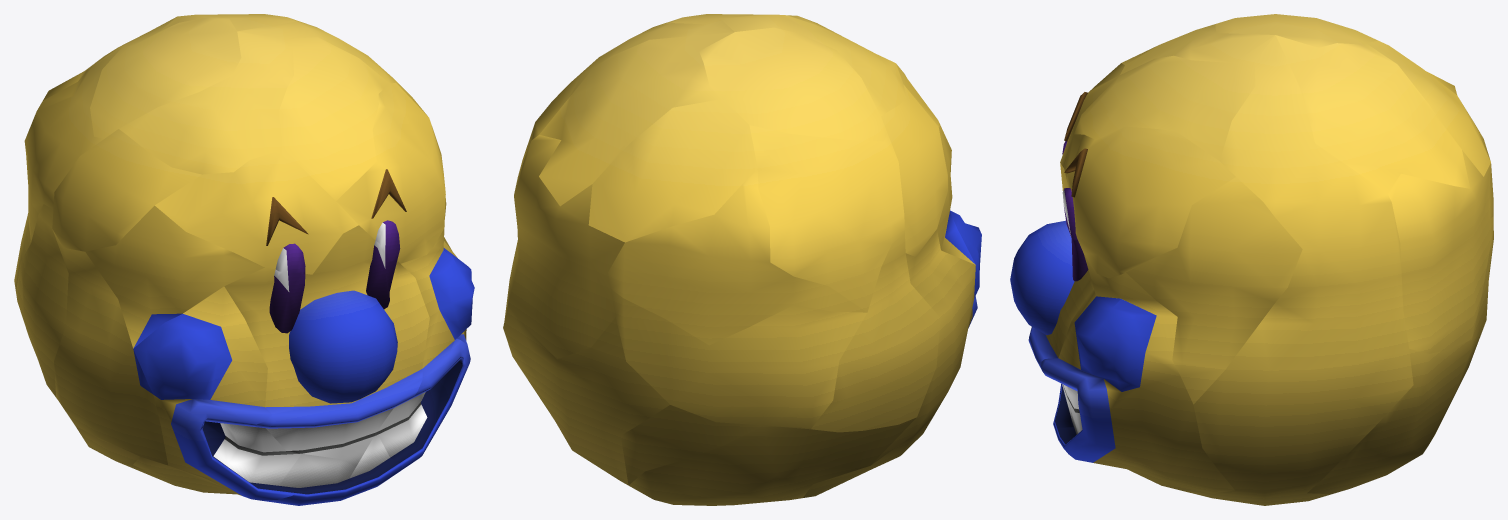
Rendered from shattered_floater.fbx.
3 renders of one model, left to right at view 1: azimuth 30°, elevation 25°; view 2: azimuth 150°, elevation 25°; view 3: azimuth 270°, elevation 25°, orthographic. The views are drawn at different scales.
Visible parts, largest first — view 1: ClownHead_Shatter; view 2: ClownHead_Shatter; view 3: ClownHead_Shatter.
Boxes of the visible parts, box(x1,y1,x2,y2) form: ClownHead_Shatter: box(14, 14, 474, 505); ClownHead_Shatter: box(503, 14, 981, 505); ClownHead_Shatter: box(1010, 14, 1493, 505).
Bounding box in the file's own units: 52.1 × 57.26 × 56.75.
